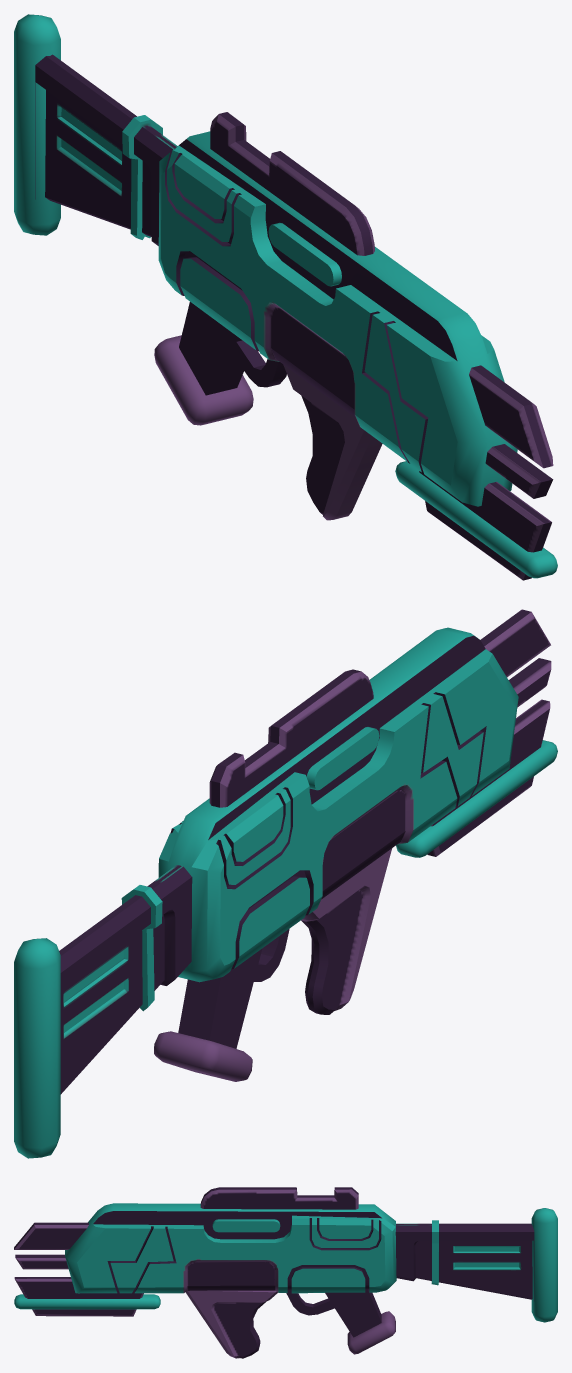
File: blaster_05.fbx
3 views of the same model, one above another, from view 1: azimuth 30°, elevation 25°; view 2: azimuth 150°, elevation 25°; view 3: azimuth 270°, elevation 25° (orthographic). The views are drawn at different scales.
Parts seen in each view (by area): view 1: Gun 5, Box.034, Box_Piece.001, Box.026, Box.033, Box.035, Box.032, Box.029, Box.030, Box.031, Box.028; view 2: Gun 5, Box.034, Box_Piece.001, Box.026, Box.035, Box.033, Box.030, Box.029, Box.032, Box.031, Box.028; view 3: Gun 5, Box.034, Box.035, Box.033, Box_Piece.001, Box.026, Box.029, Box.030, Box.032, Box.031, Box.028.
Part boxes in pixels (x1,y1,x2,y2): Gun 5: (158,131,517,506); Box.034: (35,54,177,245); Box_Piece.001: (14,14,60,235); Box.026: (154,302,253,425); Box.033: (210,112,374,255); Box.035: (283,364,382,520); Box.032: (469,365,553,468); Box.029: (419,471,551,580); Box.030: (395,461,557,578); Box.031: (485,444,553,498); Box.028: (232,340,286,387); Gun 5: (158,627,518,982); Box.034: (59,865,192,1094); Box_Piece.001: (14,938,60,1158); Box.026: (154,949,262,1081); Box.035: (301,848,391,1014); Box.033: (209,669,373,807); Box.030: (396,740,557,857); Box.029: (427,699,550,856); Box.032: (480,609,550,677); Box.031: (508,658,551,707); Box.028: (254,929,289,981); Gun 5: (65,1203,396,1293); Box.034: (395,1220,534,1301); Box.035: (185,1290,277,1358); Box.033: (200,1187,358,1209); Box_Piece.001: (531,1208,557,1322); Box.026: (325,1289,395,1354); Box.029: (14,1277,143,1316); Box.030: (14,1294,160,1309); Box.032: (14,1222,88,1249); Box.031: (15,1254,68,1269); Box.028: (286,1289,334,1315).
Bounding box in the file's own units: 16.72 × 81.62 × 237.
